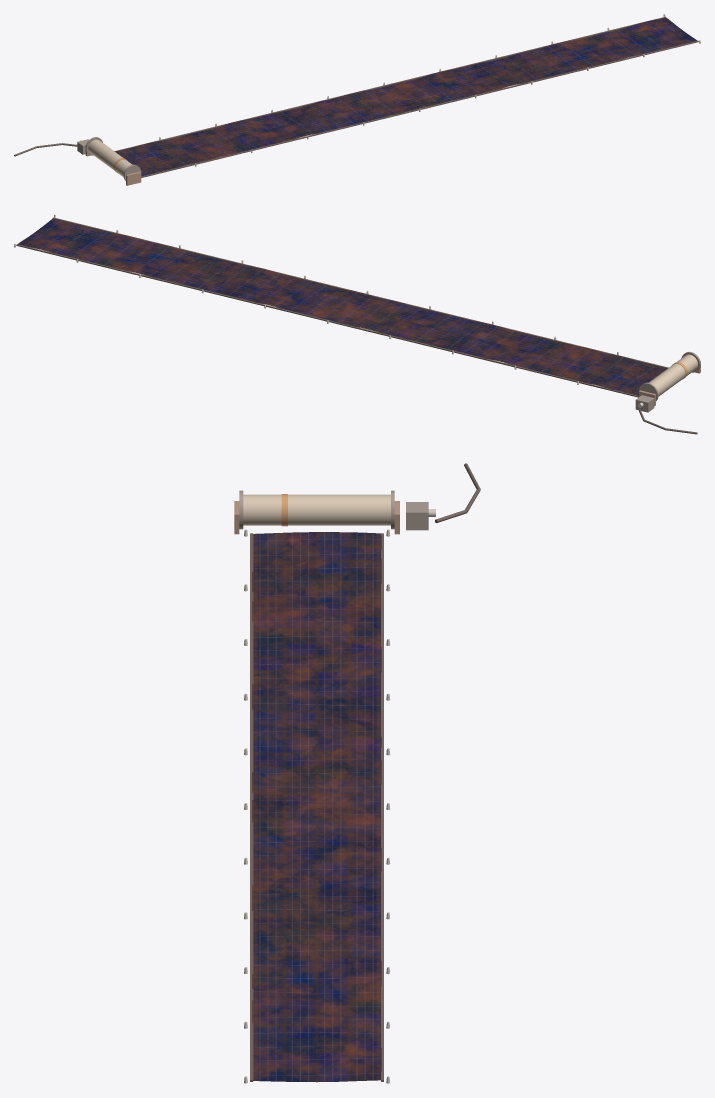
Rendered from E01_solar_blanket_20m.glb.
3 renders of one model, top to bottom at view 1: azimuth 30°, elevation 25°; view 2: azimuth 150°, elevation 25°; view 3: azimuth 270°, elevation 25°, orthographic. The views are drawn at different scales.
Parts seen in each view (by area): view 1: solar_blanket, edge_hem (×2), roller_drum; view 2: solar_blanket, edge_hem (×2), roller_drum; view 3: solar_blanket, roller_drum, edge_hem (×2).
Part boxes in pixels (bbox=[...]): solar_blanket: bbox=[115, 17, 697, 176]; edge_hem (×2): bbox=[114, 16, 698, 177]; roller_drum: bbox=[88, 139, 132, 176]; solar_blanket: bbox=[17, 218, 666, 395]; edge_hem (×2): bbox=[16, 217, 668, 397]; roller_drum: bbox=[648, 354, 697, 396]; solar_blanket: bbox=[252, 532, 381, 1082]; roller_drum: bbox=[243, 494, 390, 525]; edge_hem (×2): bbox=[250, 533, 383, 1081].
Bounding box in the file's own units: 22.54 × 0.6 × 3.81.
7 materials, 1 textured.
